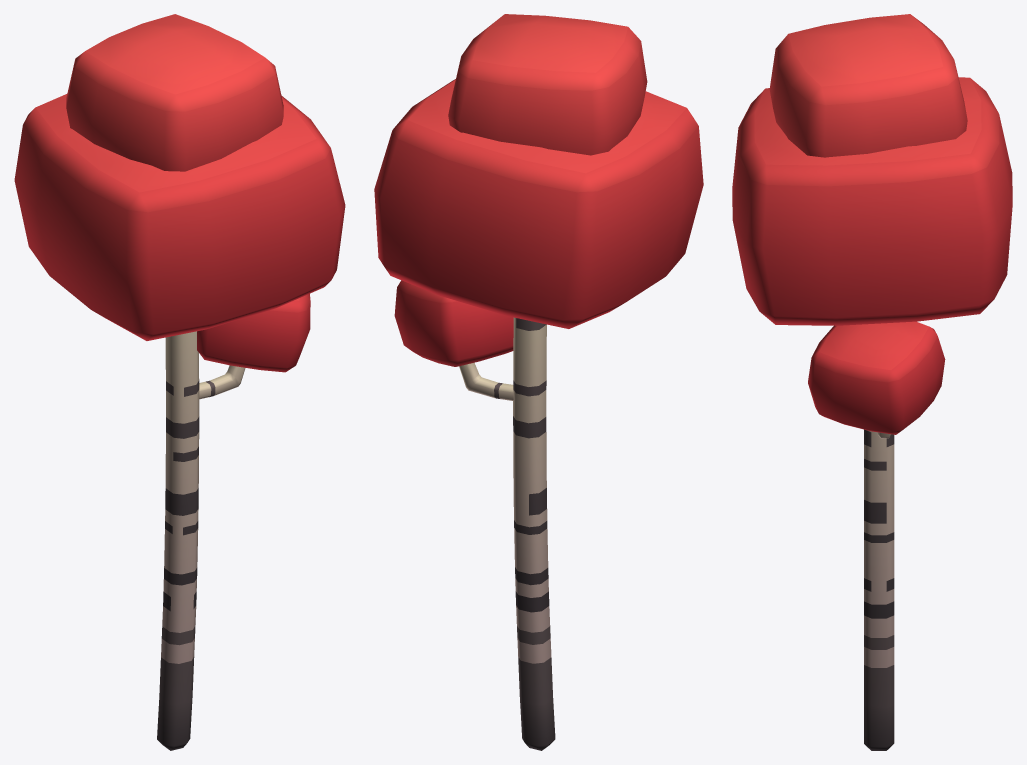
File: birch_tree_col3_04.fbx
3 renders of one model, left to right at view 1: azimuth 30°, elevation 25°; view 2: azimuth 150°, elevation 25°; view 3: azimuth 270°, elevation 25°, orthographic.
Visible parts, largest first — view 1: birch_tree_SC_col3_04; view 2: birch_tree_SC_col3_04; view 3: birch_tree_SC_col3_04.
Part boxes in pixels (x1,y1,x2,y2): birch_tree_SC_col3_04: (14, 14, 345, 750); birch_tree_SC_col3_04: (374, 14, 703, 750); birch_tree_SC_col3_04: (732, 14, 1012, 750).
Size of the model in its own units: 365 by 975 by 351.
